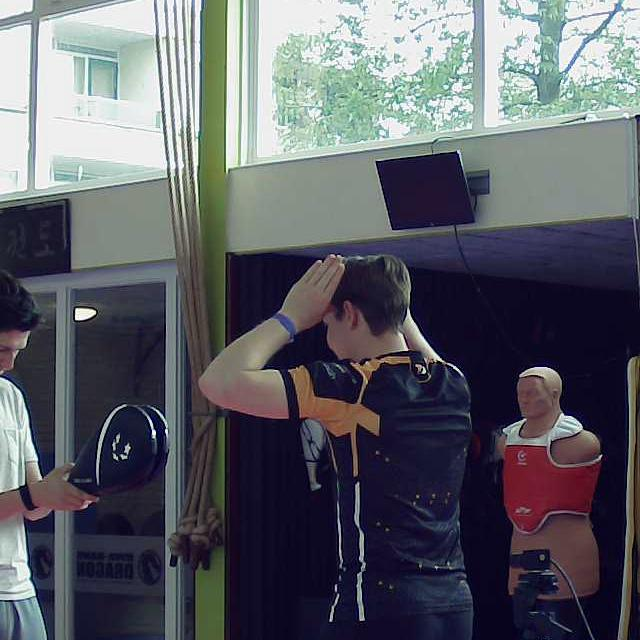paddle: (66, 402, 171, 497)
